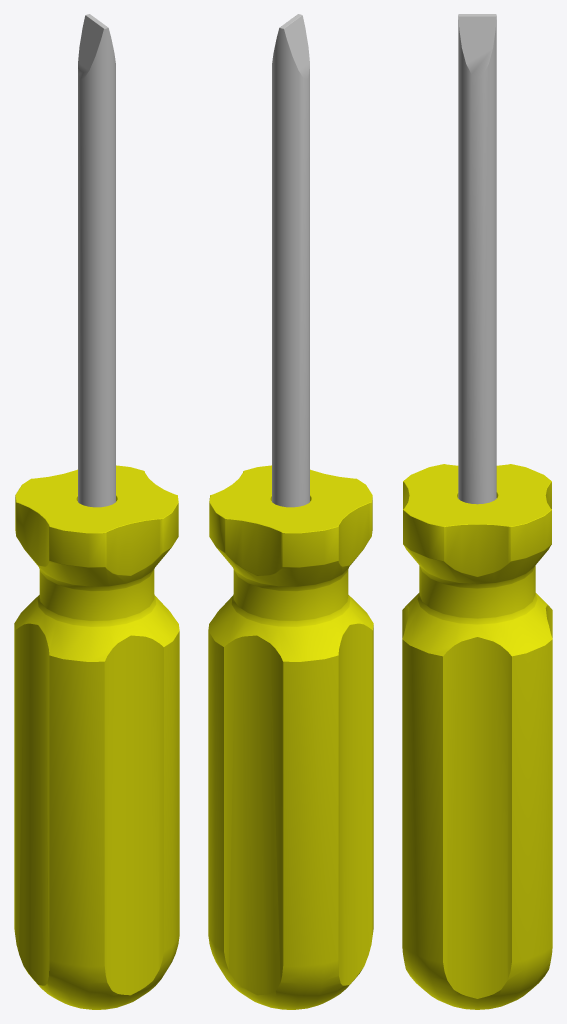
Rendered from Screwdriver2 fbx.fbx.
The picture shows the model from 3 angles, left to right: view 1: azimuth 30°, elevation 25°; view 2: azimuth 150°, elevation 25°; view 3: azimuth 270°, elevation 25°; orthographic projection.
Parts seen in each view (by area): view 1: polySurface6; view 2: polySurface6; view 3: polySurface6.
Part boxes in pixels (x1=…): polySurface6: x1=14, y1=14, x2=179, y2=1009; polySurface6: x1=208, y1=14, x2=373, y2=1009; polySurface6: x1=402, y1=14, x2=552, y2=1009.
Bounding box in the file's own units: 4.63 × 33.55 × 4.63.
